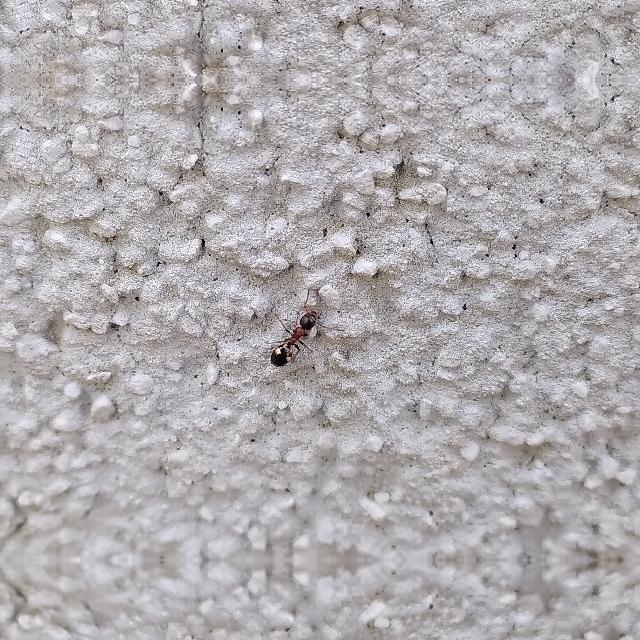Dolichoderus: (254, 298, 338, 372)
